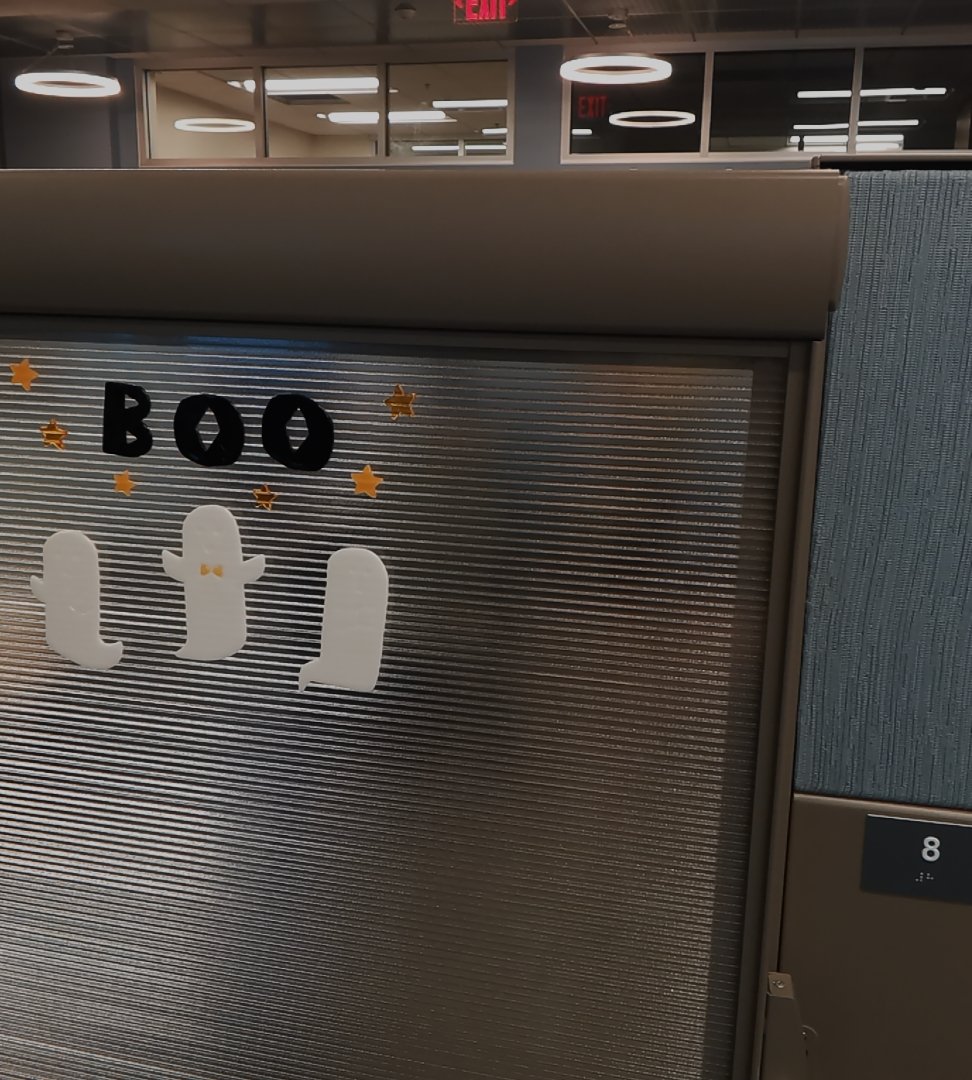emergency_exit: (2, 321, 797, 1077), (858, 811, 970, 906), (451, 0, 519, 26)
